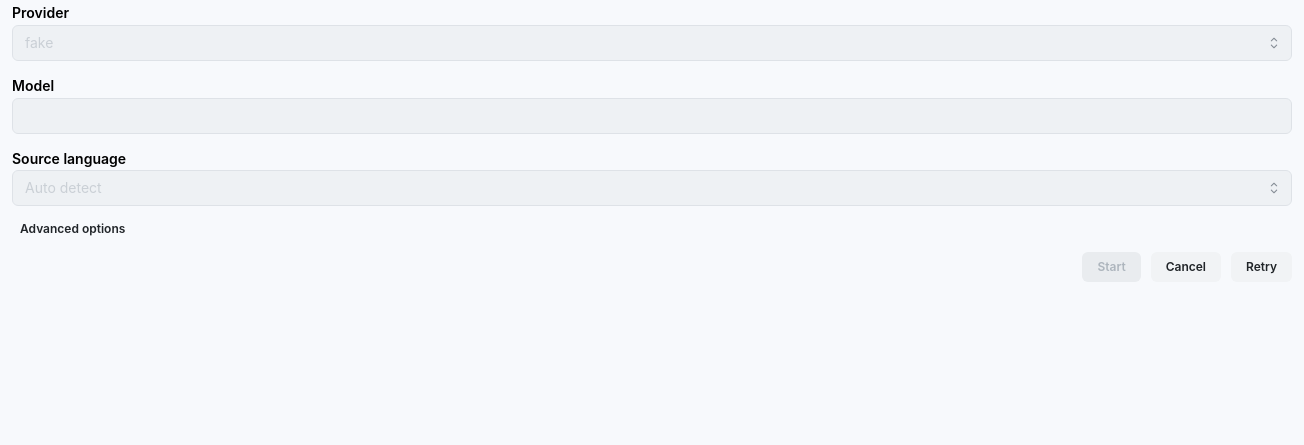
Test: AnalysisInspector › disables form fields and start while busy
Expected: the dropdown labelled "Provider" is disabled, [12, 25, 1292, 61]
Expected: the field labelled "Model" is disabled, [12, 98, 1292, 134]
Step 1. Click the button "Advanced options" → (73, 229), box [12, 218, 133, 240]
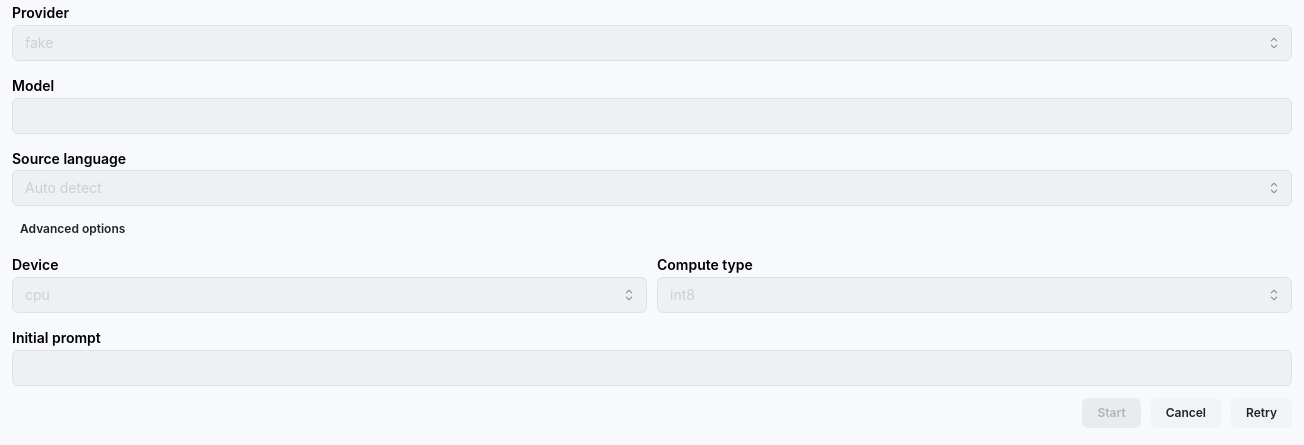
Expected: the field labelled "Initial prompt" is disabled, [12, 350, 1292, 386]
Expected: the dropdown labelled "Device" is disabled, [12, 277, 647, 313]
Expected: the dropdown labelled "Compute type" is disabled, [657, 277, 1292, 313]
